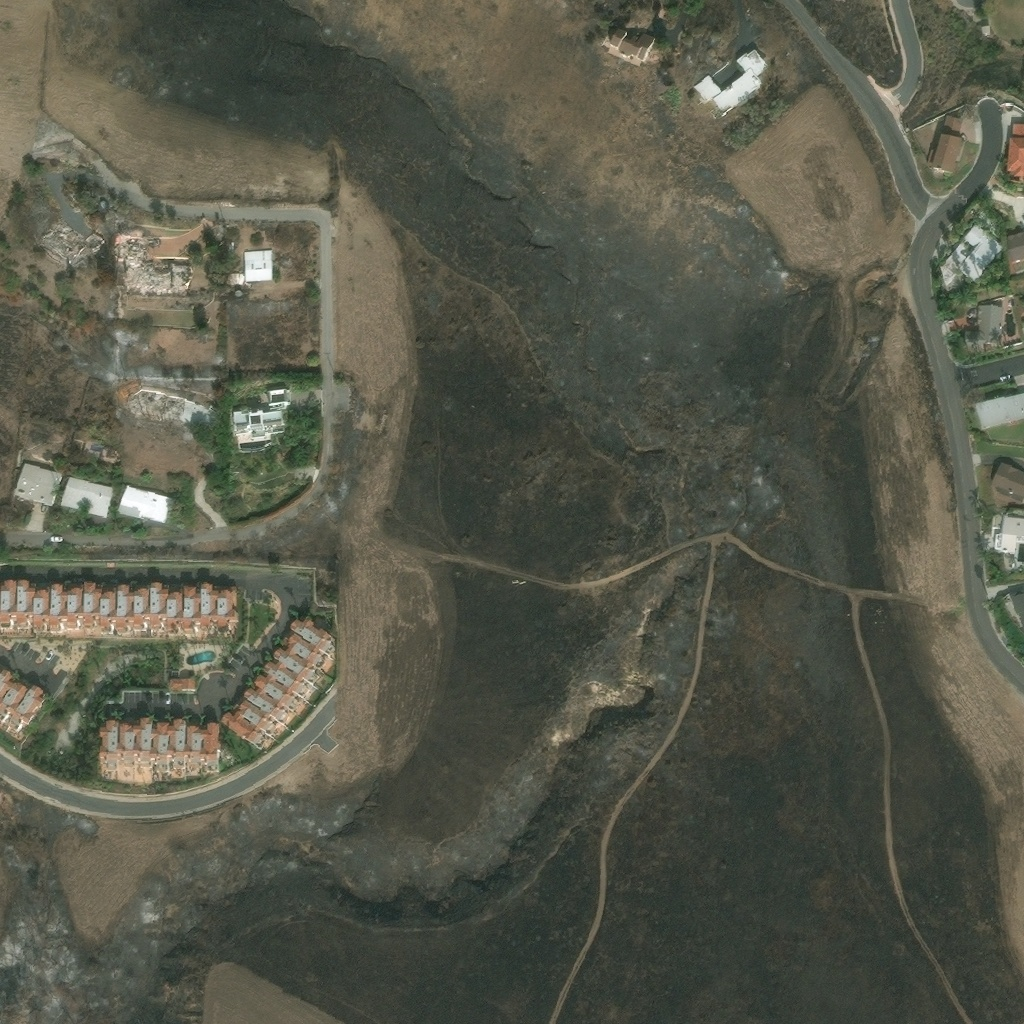0 no-damage: (219, 617, 336, 747), (14, 580, 238, 630), (97, 718, 221, 764), (692, 49, 768, 113), (955, 224, 1002, 283), (12, 462, 64, 507), (59, 476, 114, 518), (229, 410, 284, 450), (117, 484, 171, 524), (927, 114, 962, 174), (975, 390, 1023, 430), (608, 28, 656, 63), (993, 515, 1023, 570), (964, 304, 1003, 346), (174, 396, 218, 432), (9, 685, 44, 730), (228, 250, 272, 282), (125, 389, 179, 414), (990, 460, 1023, 498), (0, 681, 28, 717), (0, 579, 17, 630), (1004, 138, 1023, 179), (1008, 588, 1023, 633), (1005, 231, 1023, 264), (0, 669, 14, 701), (168, 677, 195, 690), (267, 390, 286, 405), (1010, 124, 1023, 138), (981, 26, 990, 35), (234, 291, 242, 298)
3 destroyed: (123, 261, 190, 289), (40, 222, 85, 261), (115, 232, 139, 262), (82, 230, 105, 254)
